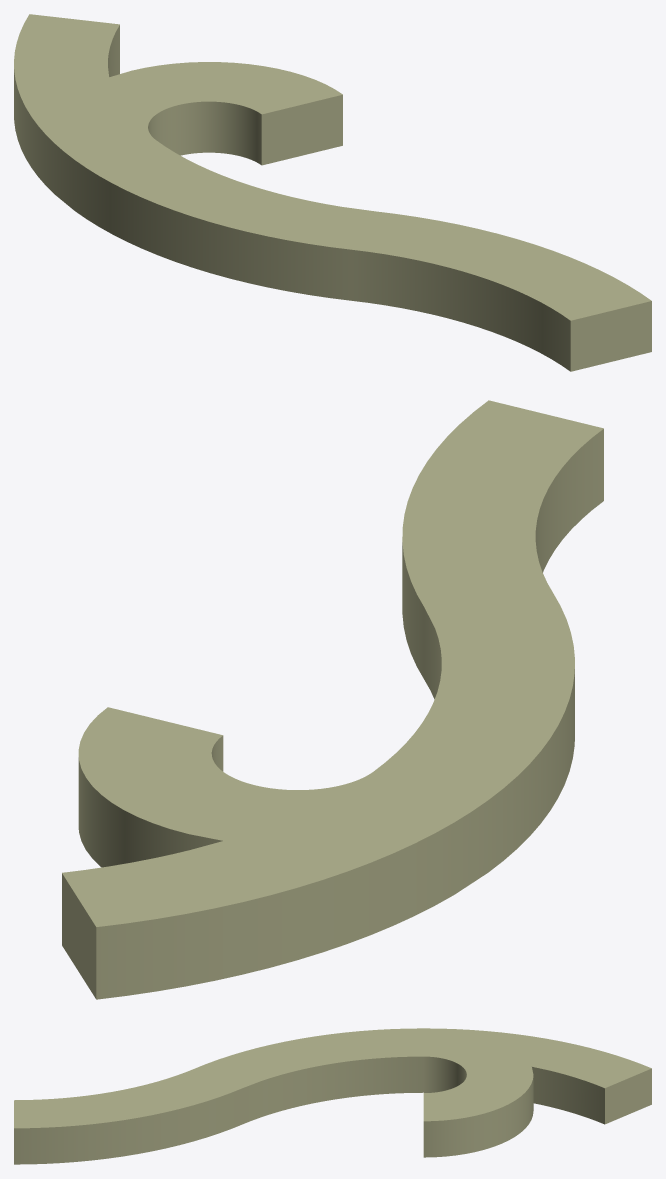
File: model_10_hover.glb
3 renders of one model, top to bottom at view 1: azimuth 30°, elevation 25°; view 2: azimuth 150°, elevation 25°; view 3: azimuth 270°, elevation 25°, orthographic. The views are drawn at different scales.
Bounding box in the file's own units: 108 × 18.29 × 292.
